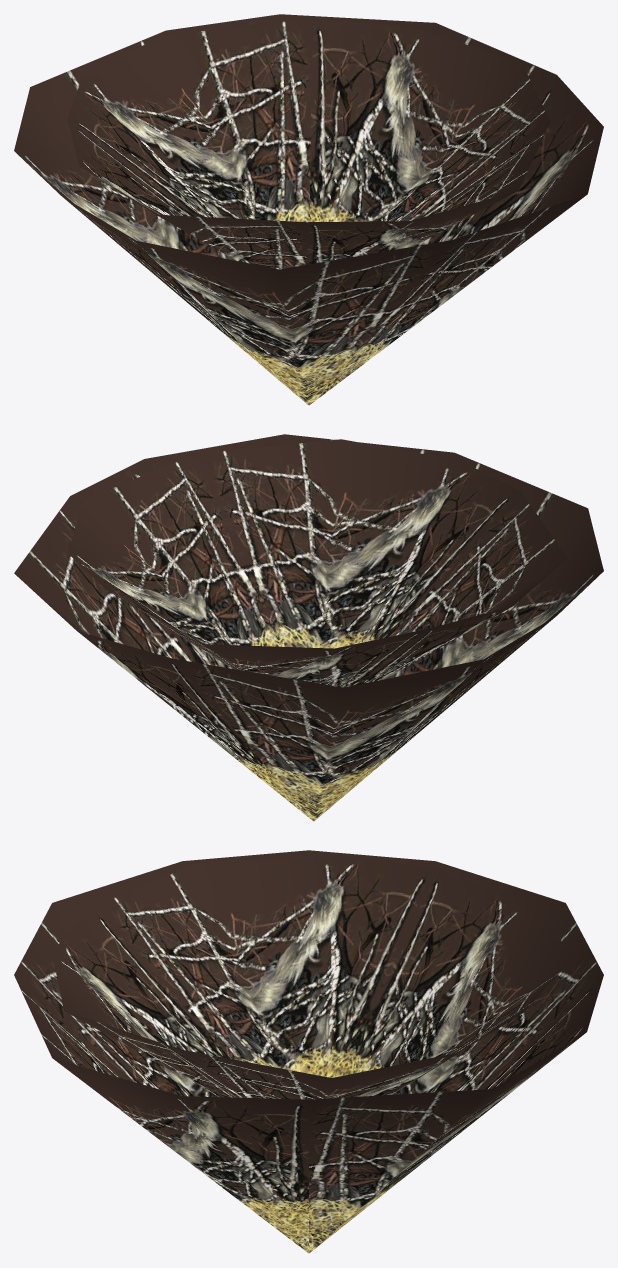
Rendered from poi_all_lair_nest_small_l3.fbx.
The picture shows the model from 3 angles, top to bottom: view 1: azimuth 30°, elevation 25°; view 2: azimuth 150°, elevation 25°; view 3: azimuth 270°, elevation 25°; orthographic projection. The views are drawn at different scales.
Parts seen in each view (by area): view 1: mesh_node; view 2: mesh_node; view 3: mesh_node.
Part boxes in pixels (x1=…): mesh_node: x1=14, y1=14, x2=603, y2=405; mesh_node: x1=14, y1=434, x2=603, y2=821; mesh_node: x1=14, y1=850, x2=603, y2=1253.
Size of the model in its own units: 2.82 by 1.55 by 2.82.
